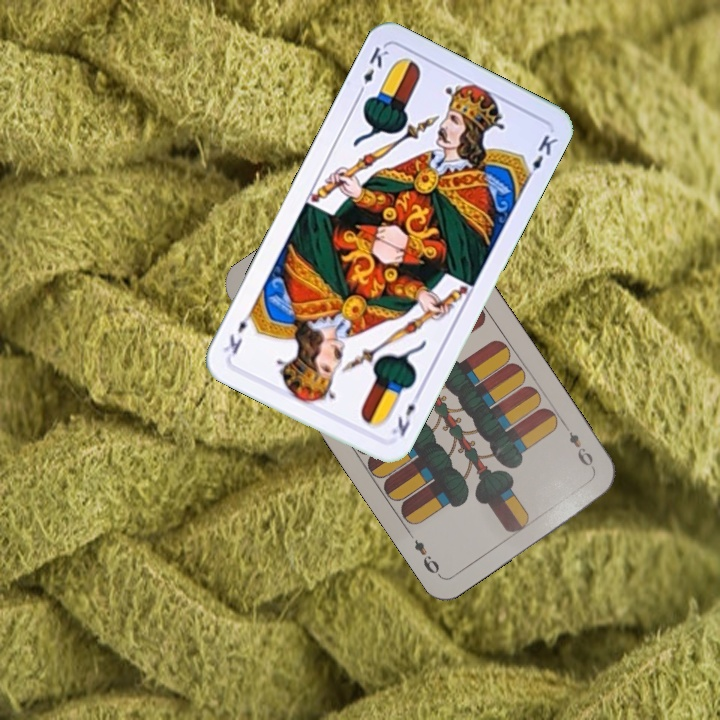E9: (564, 427, 598, 473)
EK: (353, 42, 391, 99), (387, 388, 424, 440)
